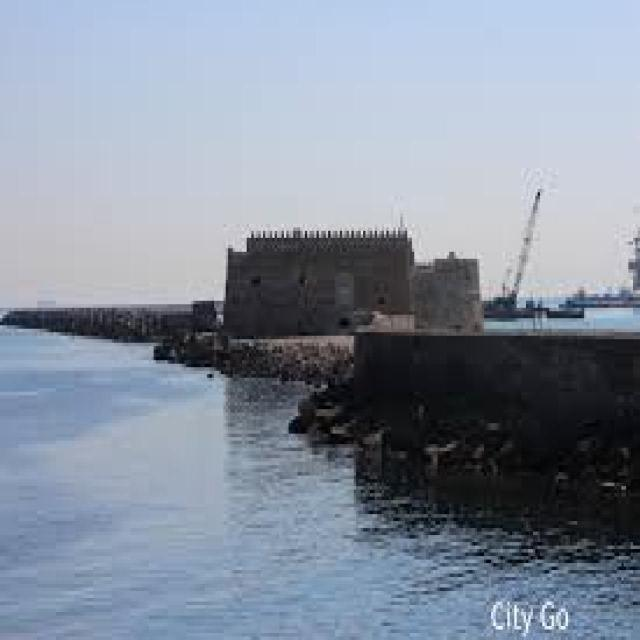Kules: (226, 221, 493, 343)
